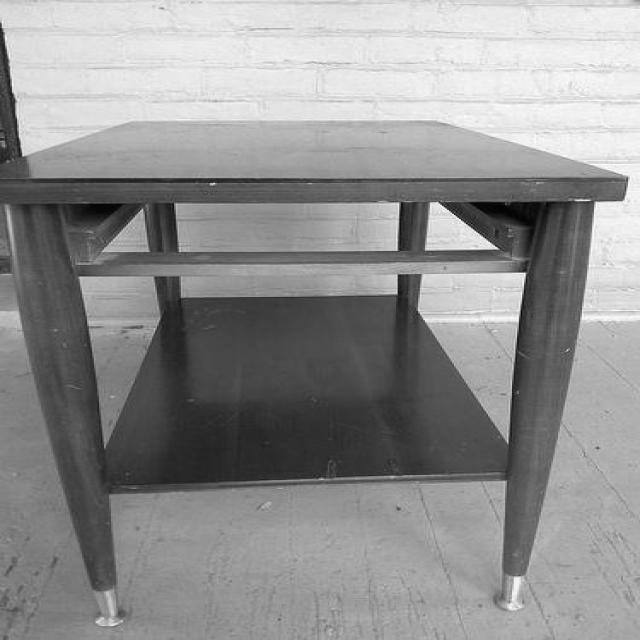table: (0, 118, 626, 627)
